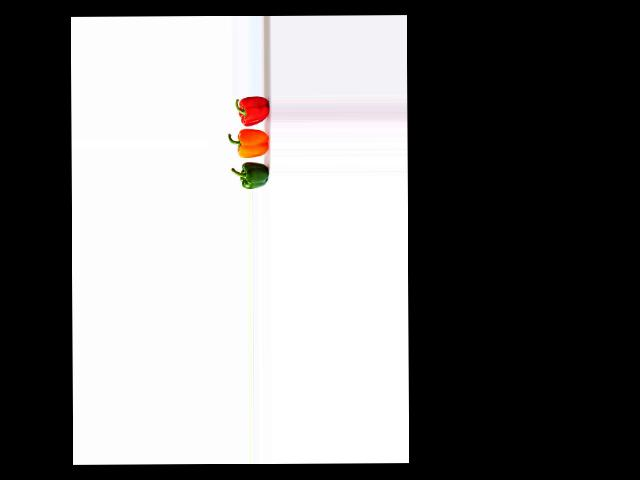bell_pepper: (228, 94, 268, 126)
